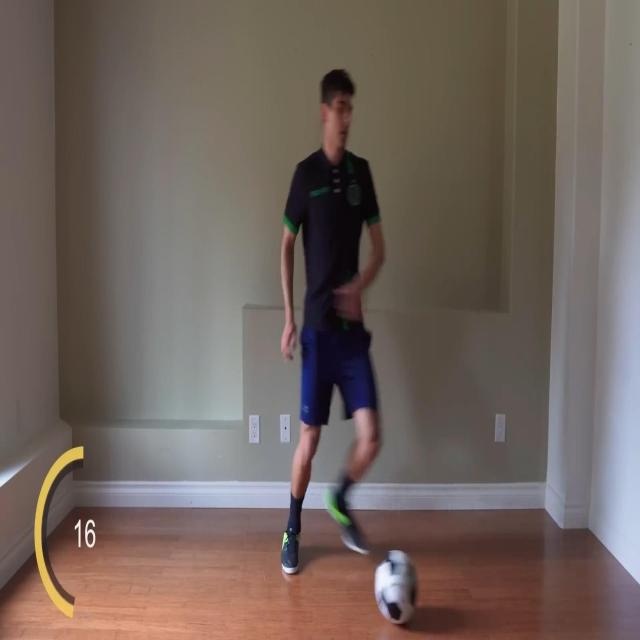Soccer Ball: (374, 548, 419, 625)
